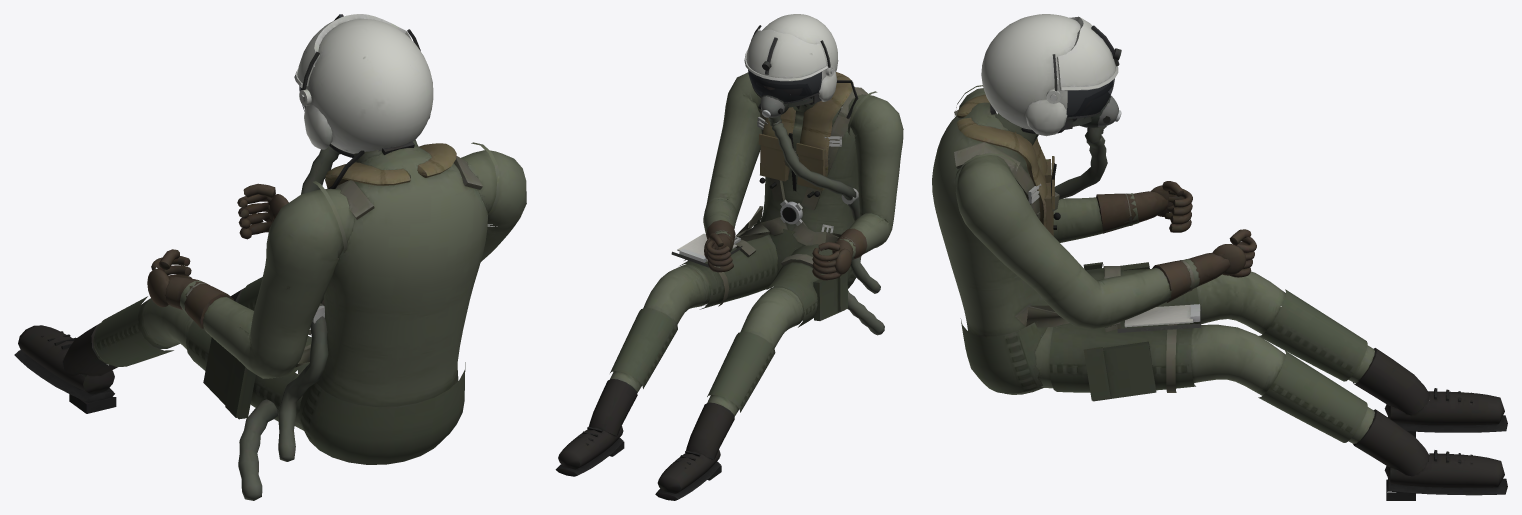
File: pilot.glb
3 renders of one model, left to right at view 1: azimuth 30°, elevation 25°; view 2: azimuth 150°, elevation 25°; view 3: azimuth 270°, elevation 25°, orthographic. The views are drawn at different scales.
Parts seen in each view (by area): view 1: pilot_body, pilot_head; view 2: pilot_body, pilot_head, pilot_visor; view 3: pilot_body, pilot_head, pilot_visor.
Boxes of the visible parts, x1=… form: pilot_body: x1=14, y1=140, x2=526, y2=500; pilot_head: x1=294, y1=14, x2=433, y2=306; pilot_body: x1=555, y1=72, x2=903, y2=500; pilot_head: x1=744, y1=14, x2=858, y2=200; pilot_visor: x1=748, y1=70, x2=821, y2=102; pilot_body: x1=932, y1=85, x2=1507, y2=500; pilot_head: x1=981, y1=14, x2=1121, y2=199; pilot_visor: x1=1066, y1=78, x2=1114, y2=117.
Bounding box in the file's own units: 0.6423 × 1.15 × 1.35.
2 materials, 1 textured.
